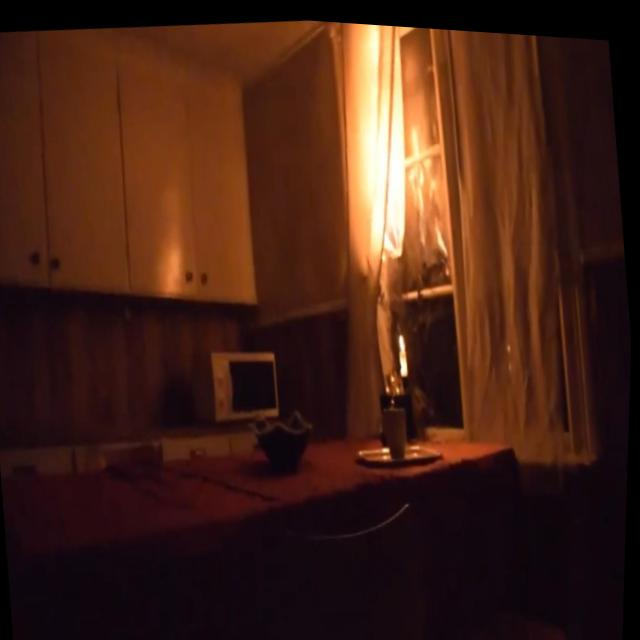fire: (335, 18, 430, 257), (398, 325, 407, 344)
